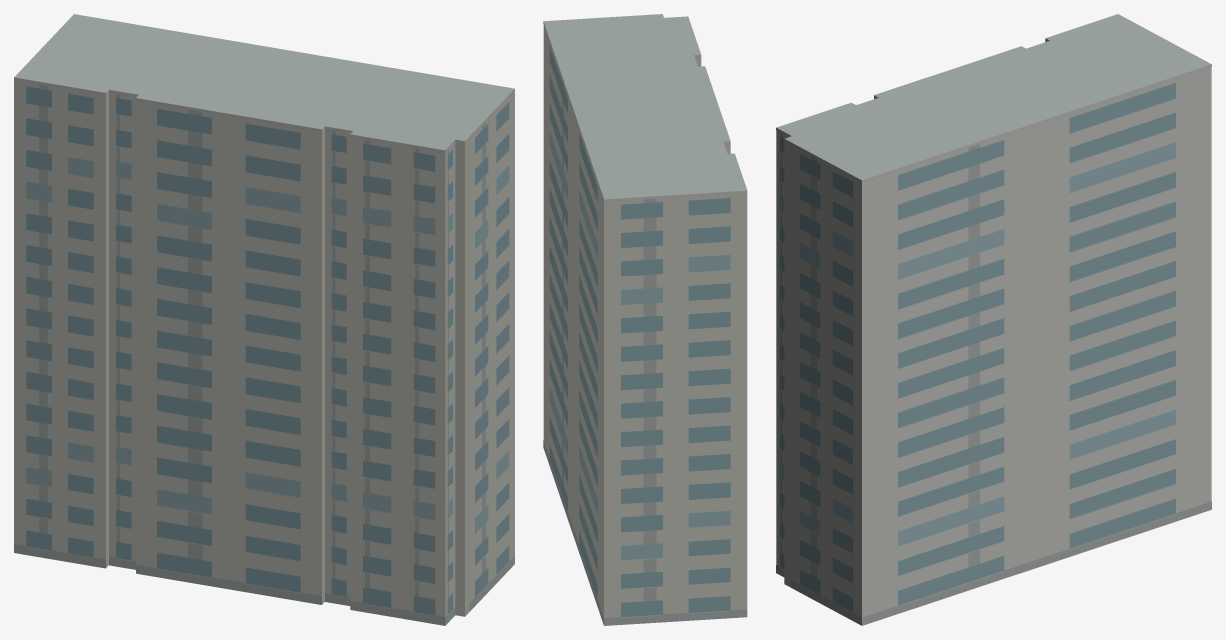
The model's file is residential-9baf4bfd-5a2e-47dd-8f8d-81a8908d9bfe.glb.
3 renders of one model, left to right at view 1: azimuth 30°, elevation 25°; view 2: azimuth 150°, elevation 25°; view 3: azimuth 270°, elevation 25°, orthographic. The views are drawn at different scales.
Visible parts, largest first — view 1: residential-9baf4bfd-5a2e-47dd-8f8d-81a8908d9bfe.tmp; view 2: residential-9baf4bfd-5a2e-47dd-8f8d-81a8908d9bfe.tmp; view 3: residential-9baf4bfd-5a2e-47dd-8f8d-81a8908d9bfe.tmp.
Boxes of the visible parts, <box> form: residential-9baf4bfd-5a2e-47dd-8f8d-81a8908d9bfe.tmp: <box>14,14,514,625</box>; residential-9baf4bfd-5a2e-47dd-8f8d-81a8908d9bfe.tmp: <box>543,14,747,625</box>; residential-9baf4bfd-5a2e-47dd-8f8d-81a8908d9bfe.tmp: <box>776,14,1211,625</box>.
Size of the model in its own units: 32.06 by 40 by 35.45.
